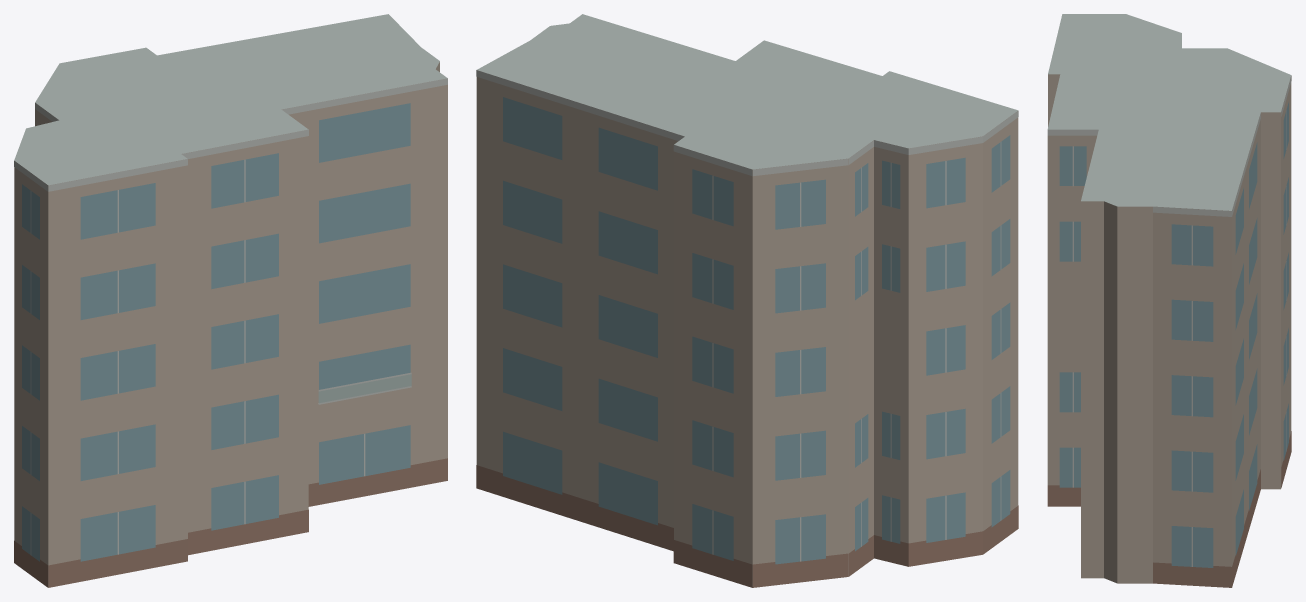
Rendered from survey-upis-32487844.glb.
3 views of the same model, side by side, from view 1: azimuth 30°, elevation 25°; view 2: azimuth 150°, elevation 25°; view 3: azimuth 270°, elevation 25° (orthographic). The views are drawn at different scales.
Parts seen in each view (by area): view 1: survey-upis-32487844.tmp; view 2: survey-upis-32487844.tmp; view 3: survey-upis-32487844.tmp.
Part boxes in pixels (bbox=[...]): survey-upis-32487844.tmp: bbox=[14, 14, 447, 587]; survey-upis-32487844.tmp: bbox=[476, 14, 1018, 587]; survey-upis-32487844.tmp: bbox=[1047, 14, 1291, 587].
Size of the model in its own units: 16.99 by 15.15 by 8.89.
